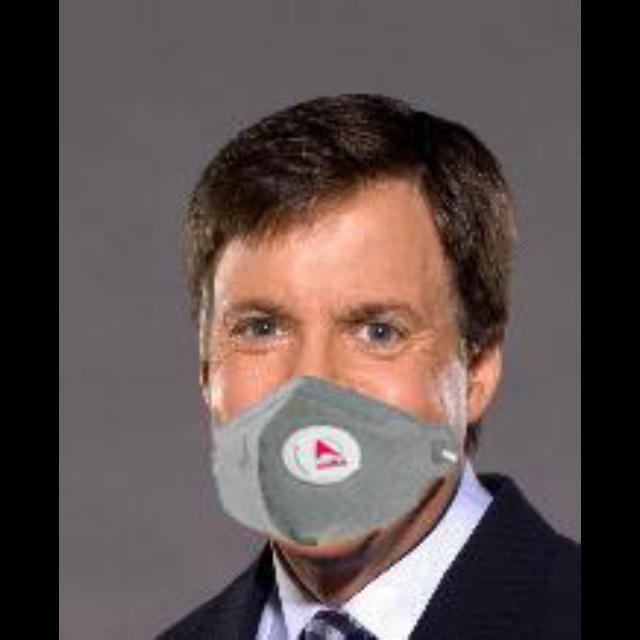suspicion: (182, 115, 506, 590)
